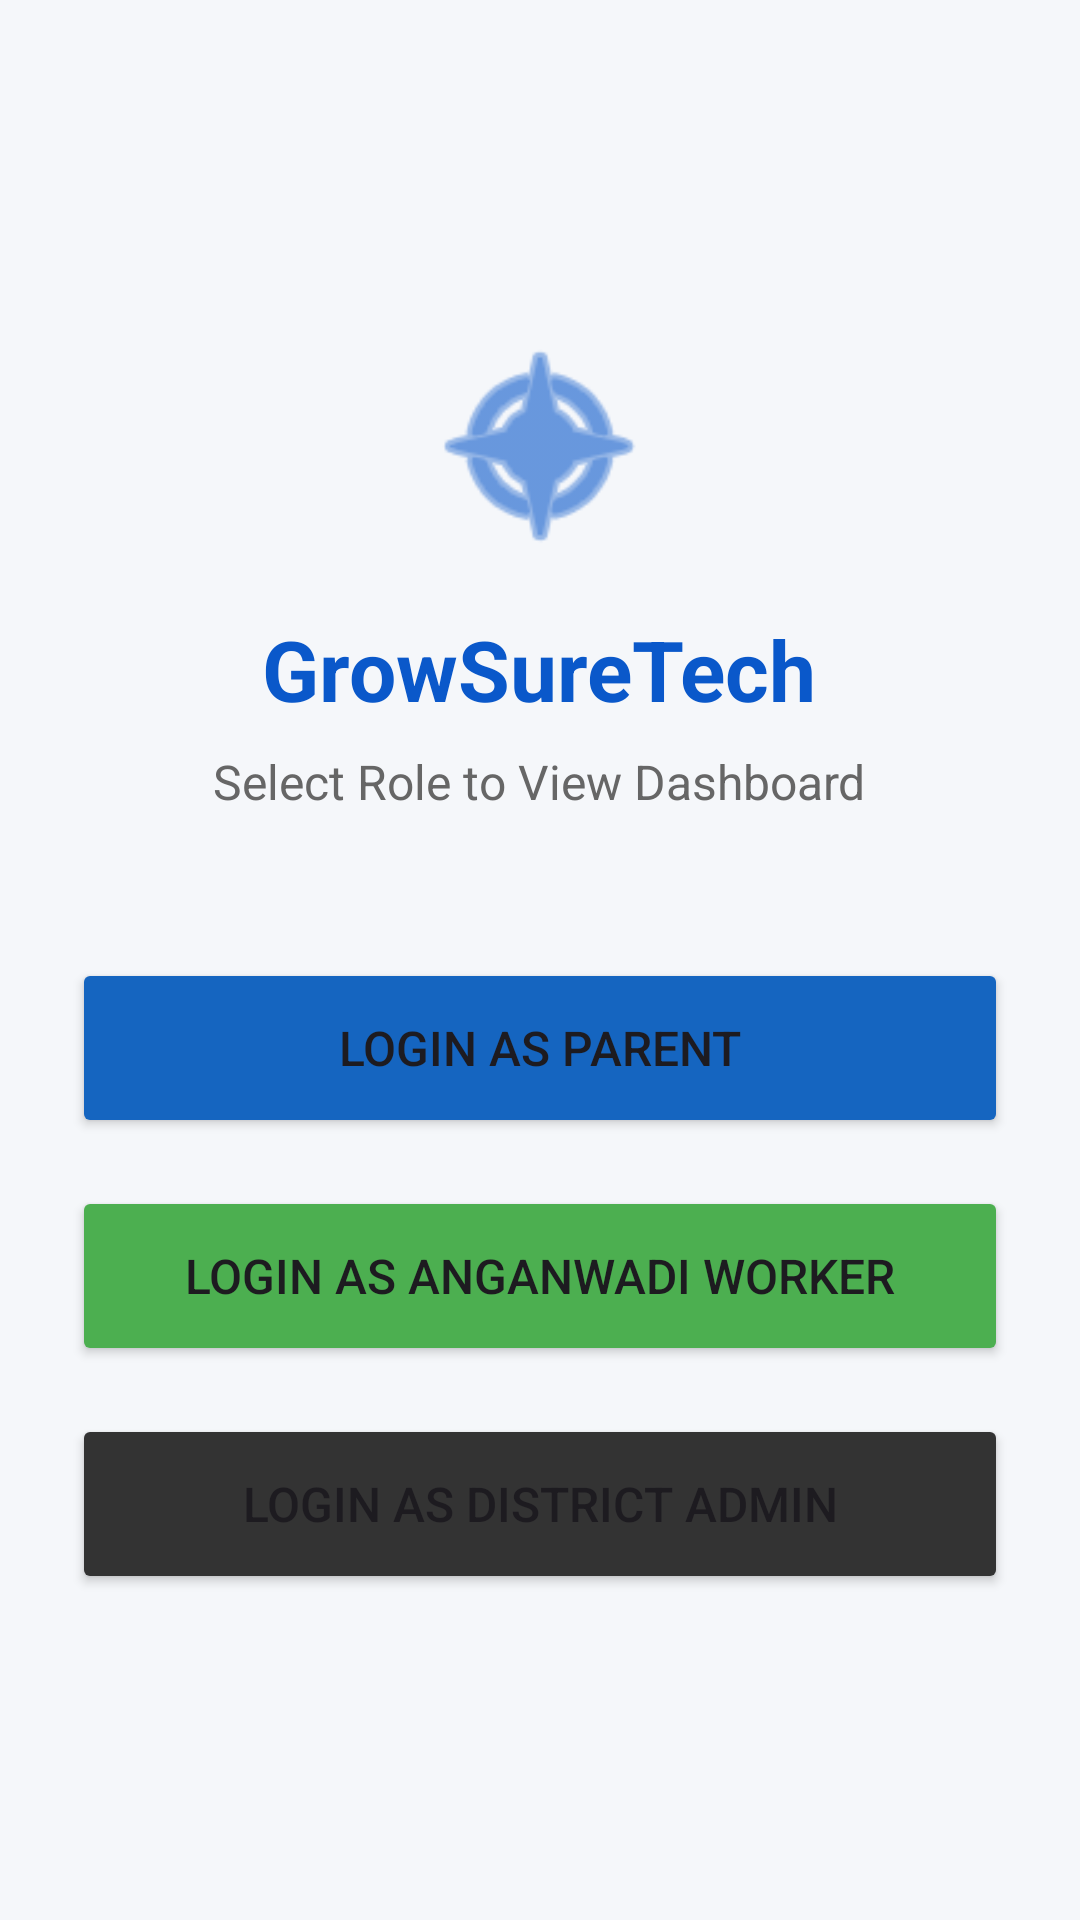

Icon bounding boxes for this 1080w x 1920h phone screenshot, format [x1,y1,x2,y2]:
compass: [444,352,634,541]
